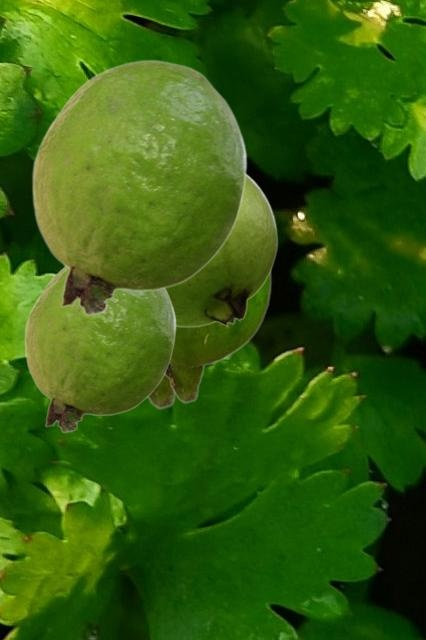guava: (31, 59, 246, 315), (24, 267, 175, 432), (167, 173, 277, 327), (165, 273, 271, 403), (146, 377, 175, 409)
